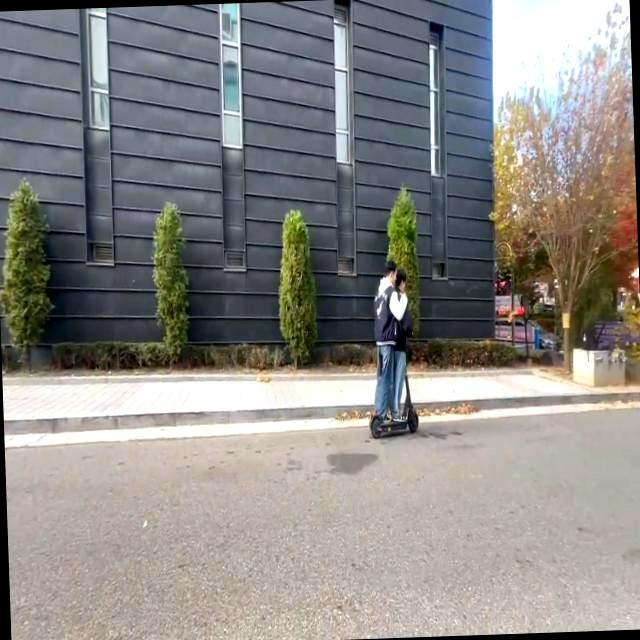bare_head: (380, 261, 398, 287), (394, 266, 409, 291)
human: (370, 262, 395, 421), (390, 265, 405, 423)
kickboard: (365, 405, 425, 439)
